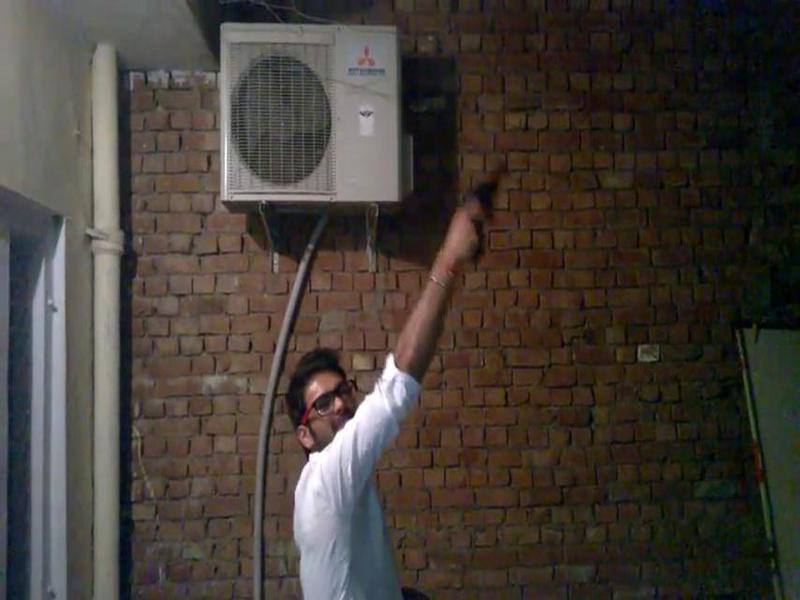Revolver: (438, 148, 534, 295)
